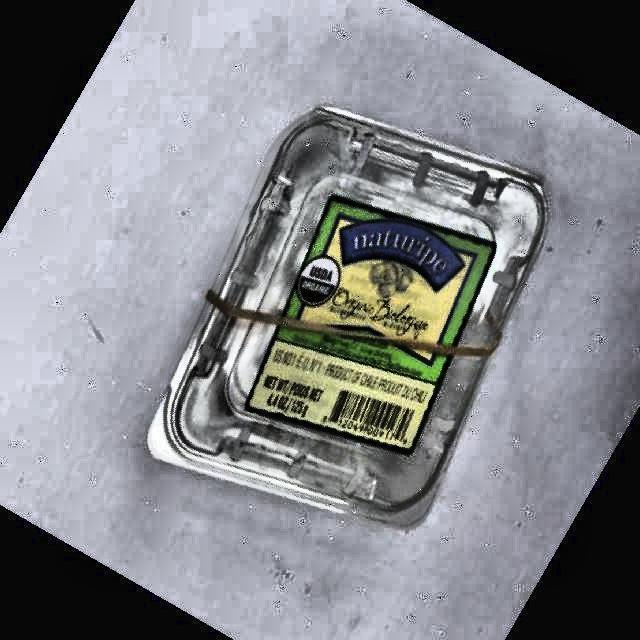plastic: (149, 106, 545, 526)
